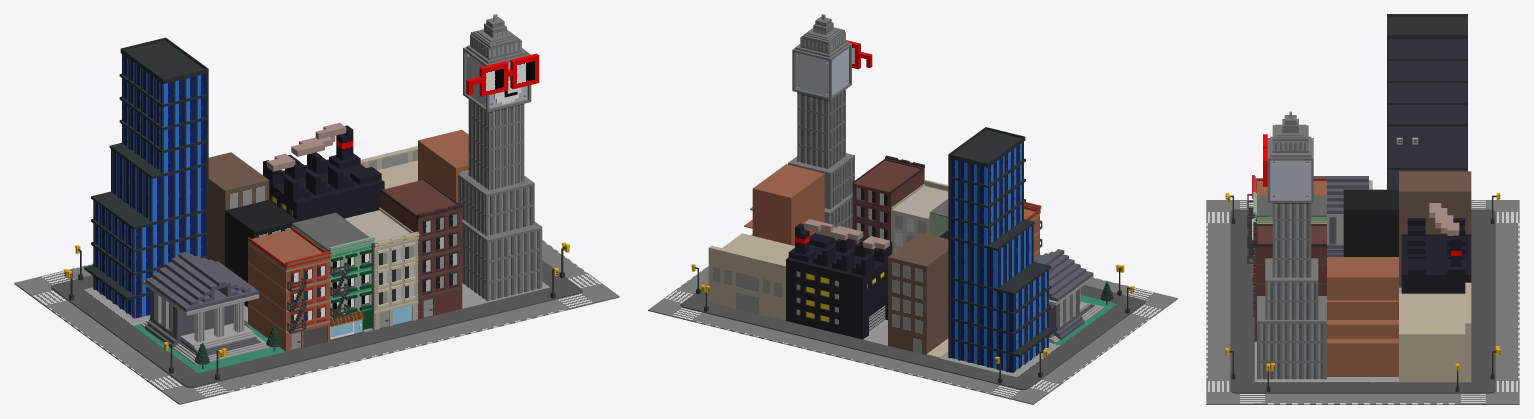
File: Block2.glb
3 renders of one model, left to right at view 1: azimuth 30°, elevation 25°; view 2: azimuth 150°, elevation 25°; view 3: azimuth 270°, elevation 25°, orthographic. The views are drawn at different scales.
Visible parts, largest first — view 1: Block2; view 2: Block2; view 3: Block2.
Part boxes in pixels (left/top/right/bottom): Block2: left=14, top=14, right=619, bottom=404; Block2: left=648, top=14, right=1177, bottom=404; Block2: left=1206, top=14, right=1519, bottom=404.
Size of the model in its own units: 4 by 2.34 by 2.6.
1 material, 1 textured.
